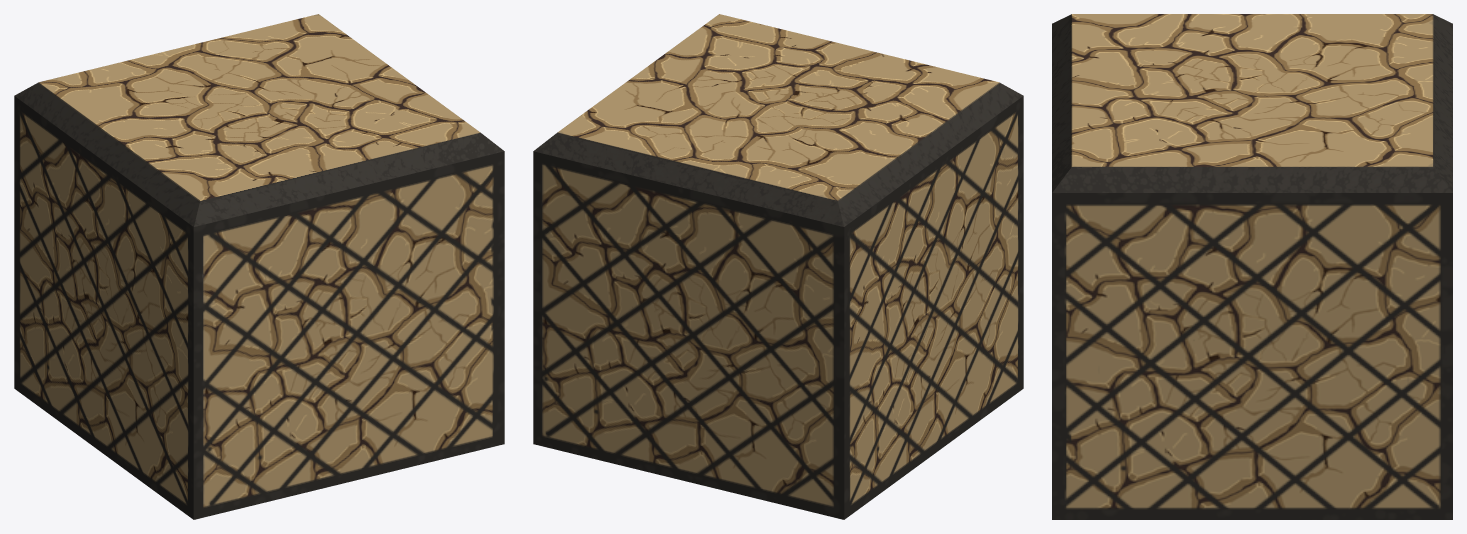
File: Block_001_Block.fbx
3 renders of one model, left to right at view 1: azimuth 30°, elevation 25°; view 2: azimuth 150°, elevation 25°; view 3: azimuth 270°, elevation 25°, orthographic. The views are drawn at different scales.
Parts seen in each view (by area): view 1: Block_001_Block; view 2: Block_001_Block; view 3: Block_001_Block.
Boxes of the visible parts, <box> form: Block_001_Block: <box>14,14,504,519</box>; Block_001_Block: <box>533,14,1023,519</box>; Block_001_Block: <box>1052,14,1452,519</box>.
Size of the model in its own units: 500 by 475 by 500.
Materials: 1 (1 with a texture image).
